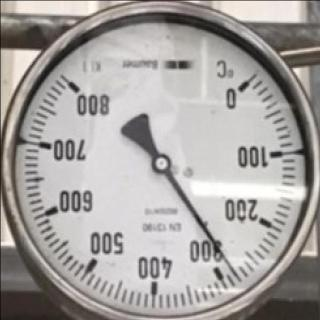gauge: (1, 1, 319, 319), (56, 65, 114, 119), (215, 63, 261, 113), (150, 152, 172, 176), (232, 272, 244, 286)
